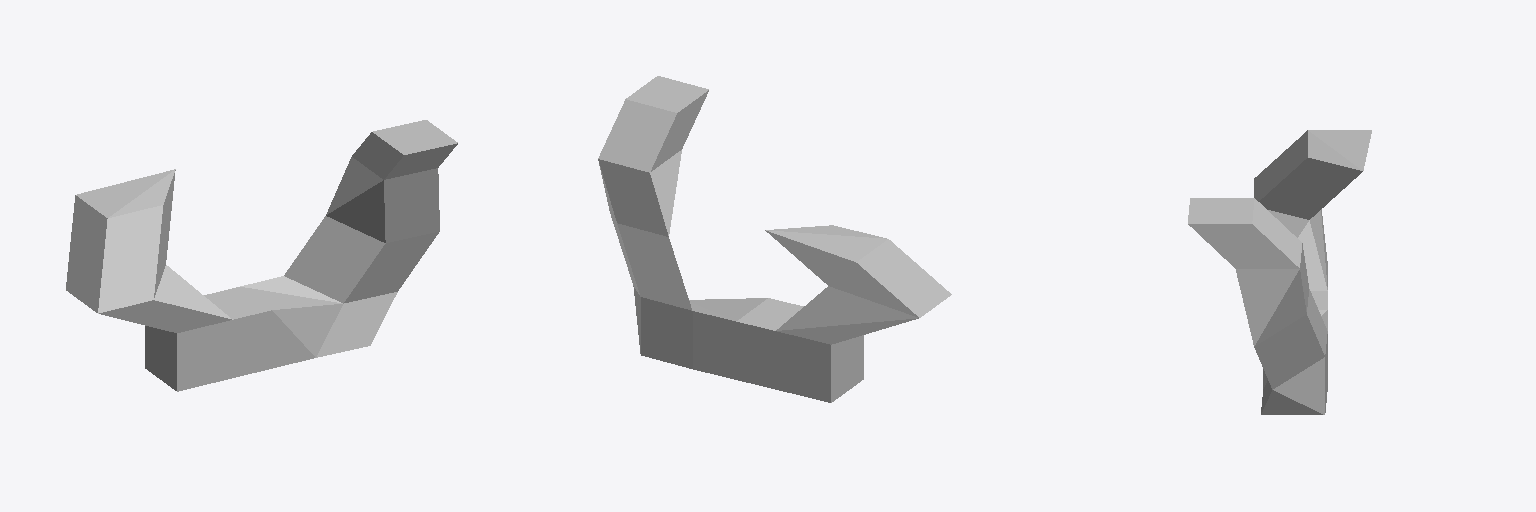
Rendered from custom.obj.
The picture shows the model from 3 angles: view 1: azimuth 30°, elevation 25°; view 2: azimuth 150°, elevation 25°; view 3: azimuth 270°, elevation 25°; orthographic projection.
Parts seen in each view (by area): view 1: Cube; view 2: Cube; view 3: Cube.
Boxes of the visible parts, x1=… form: Cube: x1=66, y1=120, x2=457, y2=391; Cube: x1=598, y1=76, x2=951, y2=402; Cube: x1=1188, y1=130, x2=1371, y2=414.
Bounding box in the file's own units: 12.25 × 7.42 × 5.72.